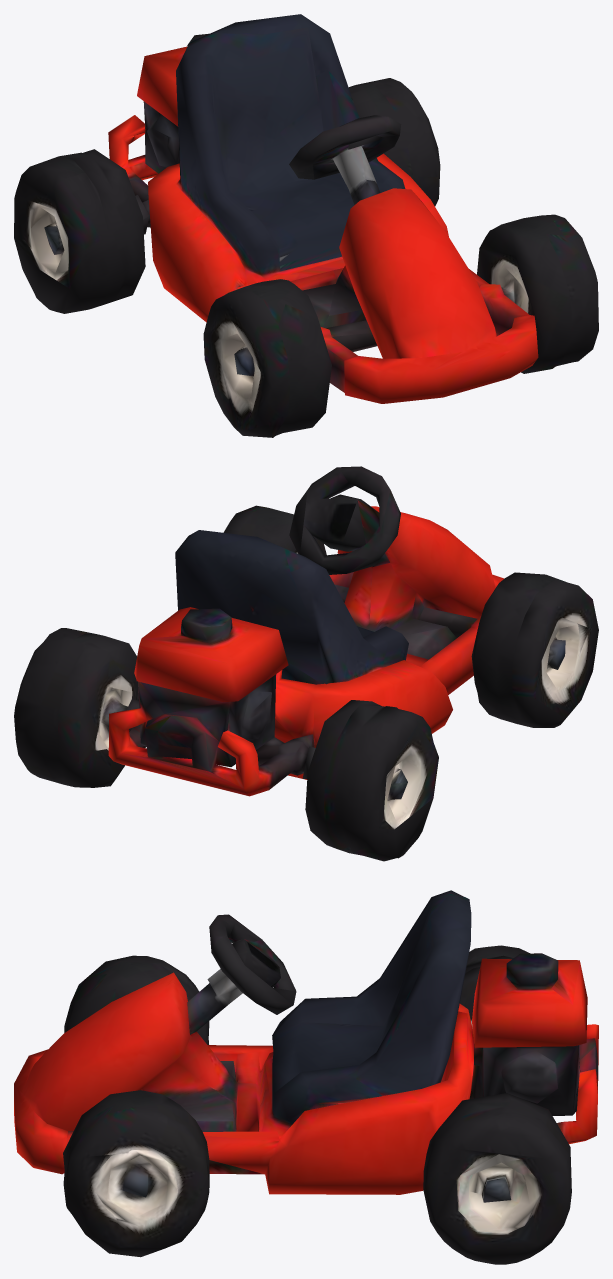
The model's file is gokart.glb.
3 renders of one model, top to bottom at view 1: azimuth 30°, elevation 25°; view 2: azimuth 150°, elevation 25°; view 3: azimuth 270°, elevation 25°, orthographic. The views are drawn at different scales.
Visible parts, largest first — view 1: model; view 2: model; view 3: model.
Boxes of the visible parts, x1,y1,x2,y2 form: model: [14, 14, 598, 437]; model: [14, 466, 598, 861]; model: [14, 890, 598, 1264].
Bounding box in the file's own units: 1.4 × 0.9551 × 1.89.
1 material, 1 textured.
